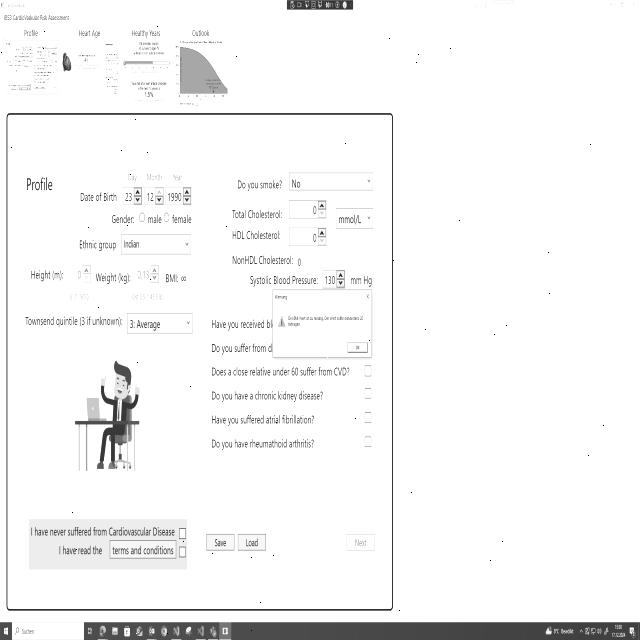button: (106, 538, 176, 564), (344, 530, 376, 554), (204, 531, 235, 554), (236, 532, 268, 554), (348, 340, 368, 355), (625, 0, 640, 11), (606, 0, 616, 11), (616, 0, 625, 11), (364, 291, 371, 303)
checkbox: (362, 428, 372, 453), (362, 408, 374, 428), (362, 361, 374, 380), (362, 386, 374, 403), (178, 544, 187, 558), (179, 526, 187, 541)
dropdownMenu: (286, 165, 376, 192), (118, 230, 194, 260), (126, 310, 195, 338), (332, 203, 378, 234)
input: (12, 622, 84, 640)
label: (28, 516, 175, 537), (209, 364, 353, 383), (208, 411, 318, 430), (209, 388, 324, 406), (209, 436, 318, 454), (24, 313, 124, 332), (208, 312, 266, 334), (228, 251, 306, 267), (234, 173, 284, 197), (247, 270, 321, 286), (230, 203, 284, 223), (208, 340, 267, 358), (23, 169, 62, 195), (24, 263, 65, 287), (229, 226, 286, 243), (93, 263, 132, 287), (76, 232, 118, 254), (57, 542, 105, 561), (76, 185, 118, 206), (4, 12, 72, 24), (130, 22, 167, 38), (130, 292, 170, 306), (106, 210, 135, 229), (350, 271, 381, 288), (65, 290, 94, 306), (170, 210, 194, 228), (77, 23, 104, 38), (163, 269, 190, 283), (189, 22, 212, 38), (145, 164, 164, 183), (122, 166, 140, 184), (147, 212, 163, 228), (169, 166, 184, 182), (24, 28, 39, 38), (274, 292, 288, 301)
radio: (137, 210, 146, 224), (164, 210, 170, 226)
upDown: (287, 198, 329, 222), (287, 226, 328, 247), (165, 184, 195, 207), (67, 261, 92, 285), (322, 265, 347, 289), (135, 263, 160, 286), (122, 186, 142, 207), (144, 185, 164, 206)
